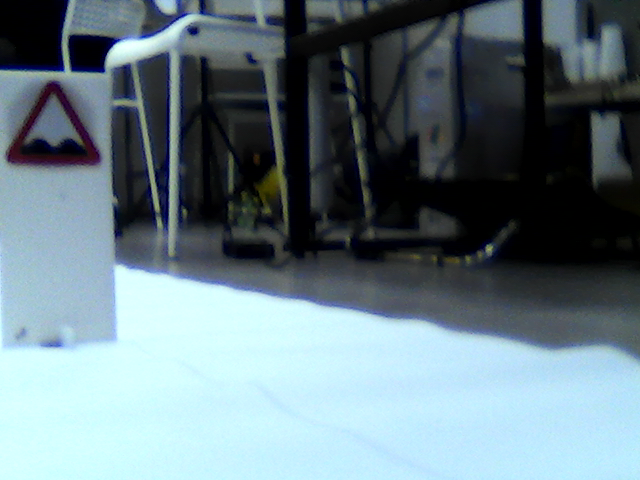Nerov: (7, 82, 103, 169)
